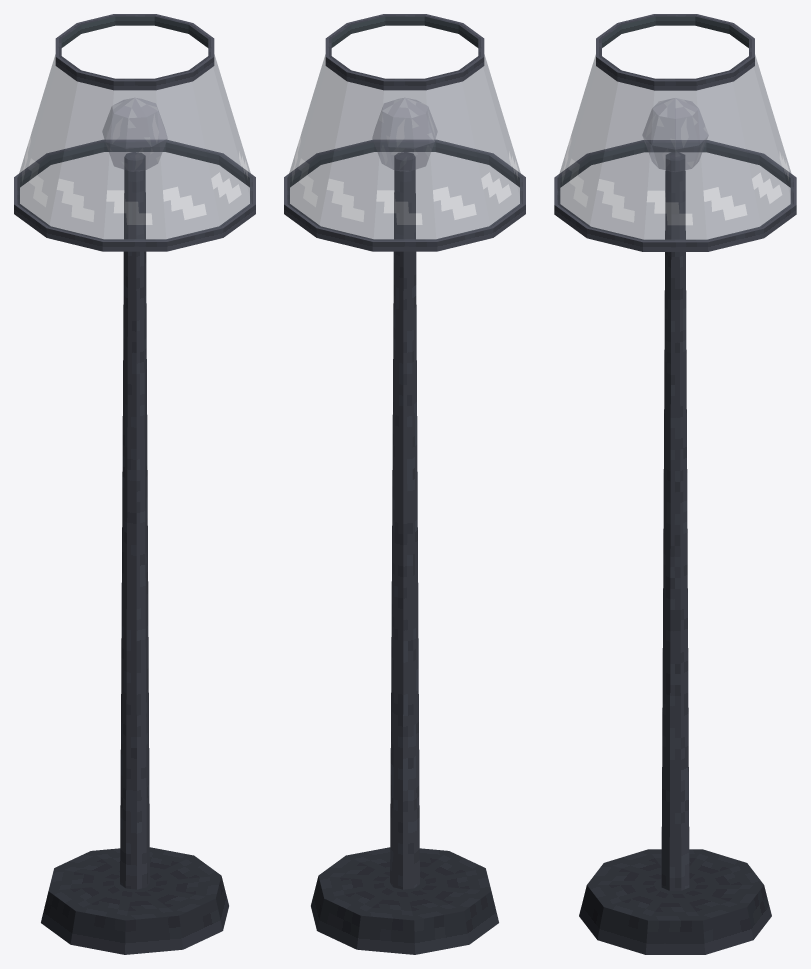
Rendered from f_vitrified_floor_lamp.glb.
3 views of the same model, side by side, from view 1: azimuth 30°, elevation 25°; view 2: azimuth 150°, elevation 25°; view 3: azimuth 270°, elevation 25° (orthographic).
Visible parts, largest first — view 1: block_translucent-glass-lampshade, block_thin-glass-standard, block_black-glass-lamp-foot, block_dim-glass-bulb, block_rolled-glass-shade-bottom-rim-outer-3, block_rolled-glass-shade-bottom-rim-inner-9, block_rolled-glass-shade-bottom-rim-outer-2, block_rolled-glass-shade-bottom-rim-outer-4, block_rolled-glass-shade-bottom-rim-inner-8, block_rolled-glass-shade-bottom-rim-inner-10; view 2: block_translucent-glass-lampshade, block_thin-glass-standard, block_black-glass-lamp-foot, block_dim-glass-bulb, block_rolled-glass-shade-bottom-rim-outer-7, block_rolled-glass-shade-bottom-rim-inner-1, block_rolled-glass-shade-bottom-rim-outer-6, block_rolled-glass-shade-bottom-rim-outer-8, block_rolled-glass-shade-bottom-rim-inner-2, block_rolled-glass-shade-bottom-rim-inner-0; view 3: block_translucent-glass-lampshade, block_thin-glass-standard, block_black-glass-lamp-foot, block_dim-glass-bulb, block_rolled-glass-shade-bottom-rim-outer-11, block_rolled-glass-shade-bottom-rim-outer-0, block_rolled-glass-shade-bottom-rim-outer-10, block_rolled-glass-shade-bottom-rim-inner-5, block_rolled-glass-shade-bottom-rim-inner-4, block_rolled-glass-shade-bottom-rim-inner-6.
Part boxes in pixels (<box>): block_translucent-glass-lampshade: <box>17,54,252,240</box>; block_thin-glass-standard: <box>120,152,149,889</box>; block_black-glass-lamp-foot: <box>41,847,228,954</box>; block_dim-glass-bulb: <box>102,98,167,171</box>; block_rolled-glass-shade-bottom-rim-outer-3: <box>102,242,167,251</box>; block_rolled-glass-shade-bottom-rim-inner-9: <box>104,142,165,151</box>; block_rolled-glass-shade-bottom-rim-outer-2: <box>167,228,223,251</box>; block_rolled-glass-shade-bottom-rim-outer-4: <box>46,228,102,251</box>; block_rolled-glass-shade-bottom-rim-inner-8: <box>51,142,104,164</box>; block_rolled-glass-shade-bottom-rim-inner-10: <box>165,142,218,164</box>; block_translucent-glass-lampshade: <box>287,54,522,240</box>; block_thin-glass-standard: <box>390,152,419,889</box>; block_black-glass-lamp-foot: <box>311,847,498,954</box>; block_dim-glass-bulb: <box>372,98,437,171</box>; block_rolled-glass-shade-bottom-rim-outer-7: <box>372,242,437,251</box>; block_rolled-glass-shade-bottom-rim-inner-1: <box>374,142,435,151</box>; block_rolled-glass-shade-bottom-rim-outer-6: <box>437,228,493,251</box>; block_rolled-glass-shade-bottom-rim-outer-8: <box>316,228,372,251</box>; block_rolled-glass-shade-bottom-rim-inner-2: <box>435,142,488,164</box>; block_rolled-glass-shade-bottom-rim-inner-0: <box>321,142,374,164</box>; block_translucent-glass-lampshade: <box>558,55,792,240</box>; block_thin-glass-standard: <box>661,152,689,890</box>; block_black-glass-lamp-foot: <box>579,849,771,954</box>; block_dim-glass-bulb: <box>642,98,708,171</box>; block_rolled-glass-shade-bottom-rim-outer-11: <box>643,242,707,251</box>; block_rolled-glass-shade-bottom-rim-outer-0: <box>587,228,642,251</box>; block_rolled-glass-shade-bottom-rim-outer-10: <box>708,228,763,251</box>; block_rolled-glass-shade-bottom-rim-inner-5: <box>644,143,706,152</box>; block_rolled-glass-shade-bottom-rim-inner-4: <box>591,143,644,164</box>; block_rolled-glass-shade-bottom-rim-inner-6: <box>706,143,759,164</box>.
Size of the model in its own units: 0.4289 by 1.7 by 0.4289.
2 materials, 2 textured.
